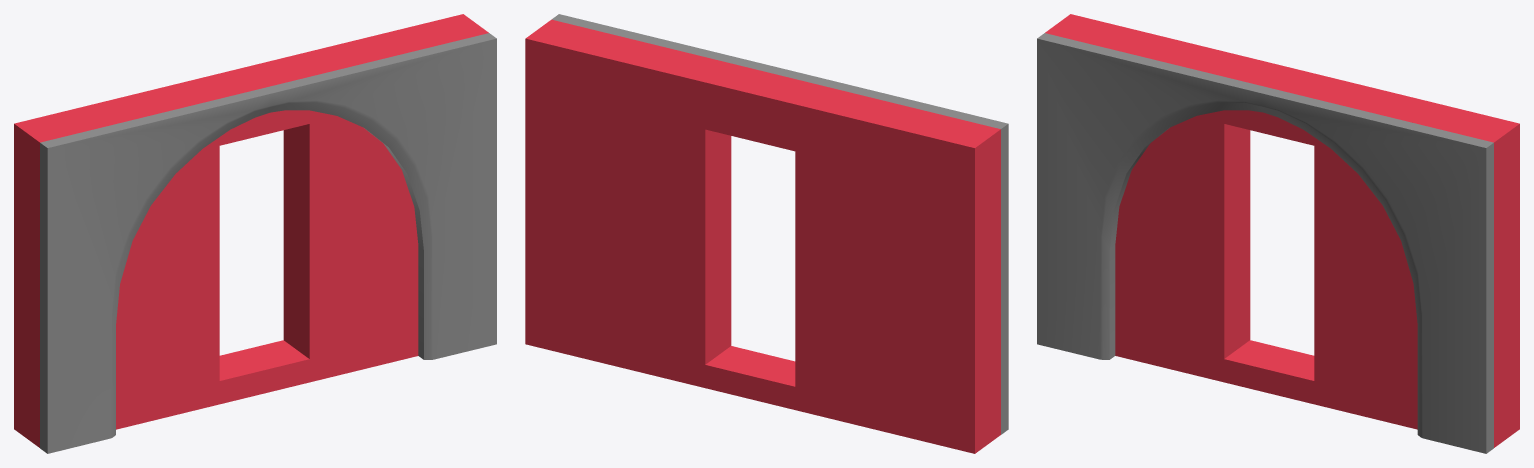
The model's file is doorway_Large_C.fbx.
3 views of the same model, side by side, from view 1: azimuth 30°, elevation 25°; view 2: azimuth 150°, elevation 25°; view 3: azimuth 330°, elevation 25° (orthographic).
Parts seen in each view (by area): view 1: doorway_Large_C; view 2: doorway_Large_C; view 3: doorway_Large_C.
Part boxes in pixels (x1,y1,x2,y2): doorway_Large_C: [14, 14, 496, 453]; doorway_Large_C: [525, 14, 1008, 453]; doorway_Large_C: [1037, 14, 1519, 453].
Bounding box in the file's own units: 999 × 650 × 129.
